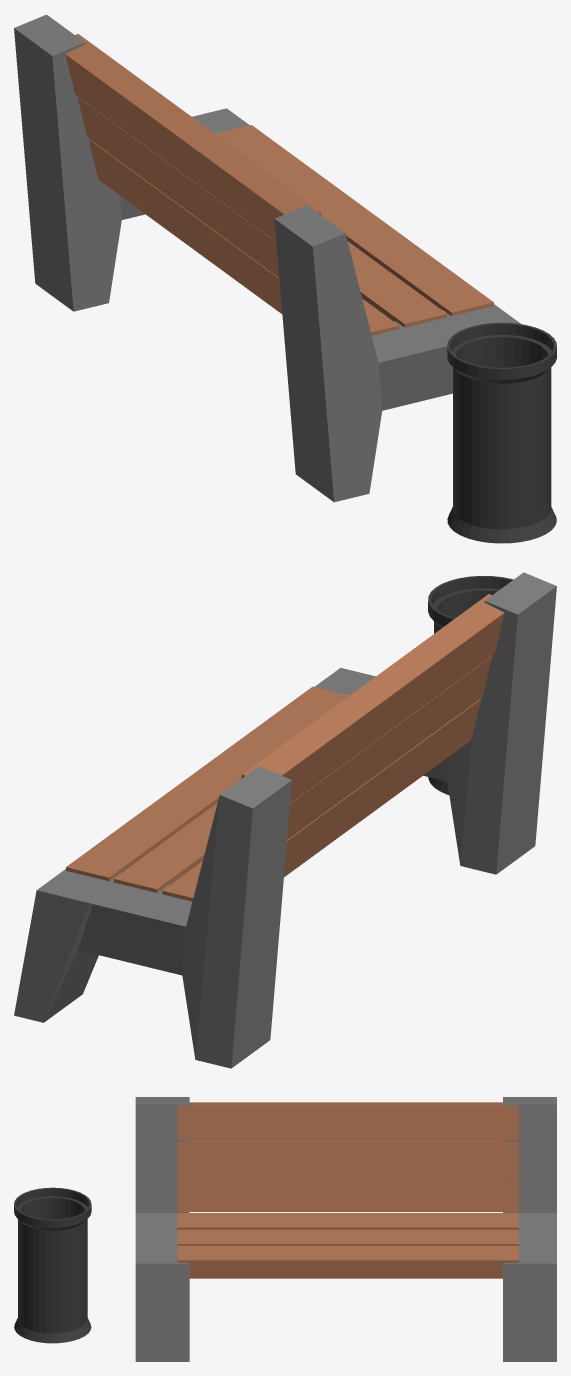
The model's file is Cкамейка.fbx.
3 renders of one model, top to bottom at view 1: azimuth 30°, elevation 25°; view 2: azimuth 150°, elevation 25°; view 3: azimuth 270°, elevation 25°, orthographic. The views are drawn at different scales.
Parts seen in each view (by area): view 1: Cube; view 2: Cube; view 3: Cube.
Part boxes in pixels (x1,y1,x2,y2): Cube: (14,14,556,543); Cube: (14,572,556,1068); Cube: (14,1097,556,1361).
Bounding box in the file's own units: 22.53 × 24.57 × 63.98.
